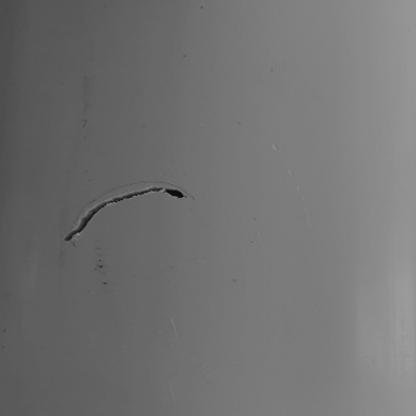fengxi: (62, 182, 191, 243)
